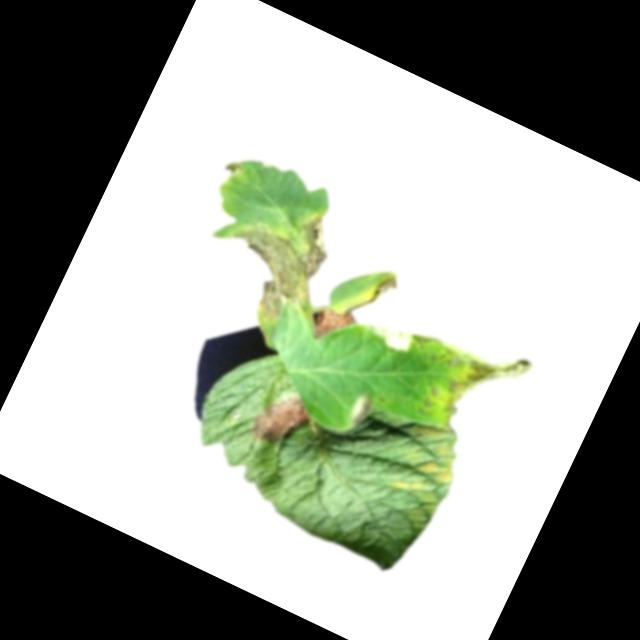Late_blight: (207, 186, 343, 331), (431, 334, 536, 451), (246, 382, 317, 457), (303, 297, 360, 354), (362, 313, 417, 359), (364, 270, 401, 315), (344, 391, 376, 430), (217, 155, 247, 184)
